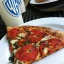pepperoni: (14, 42, 41, 60), (28, 27, 48, 40)
pizza: (7, 25, 63, 64)
